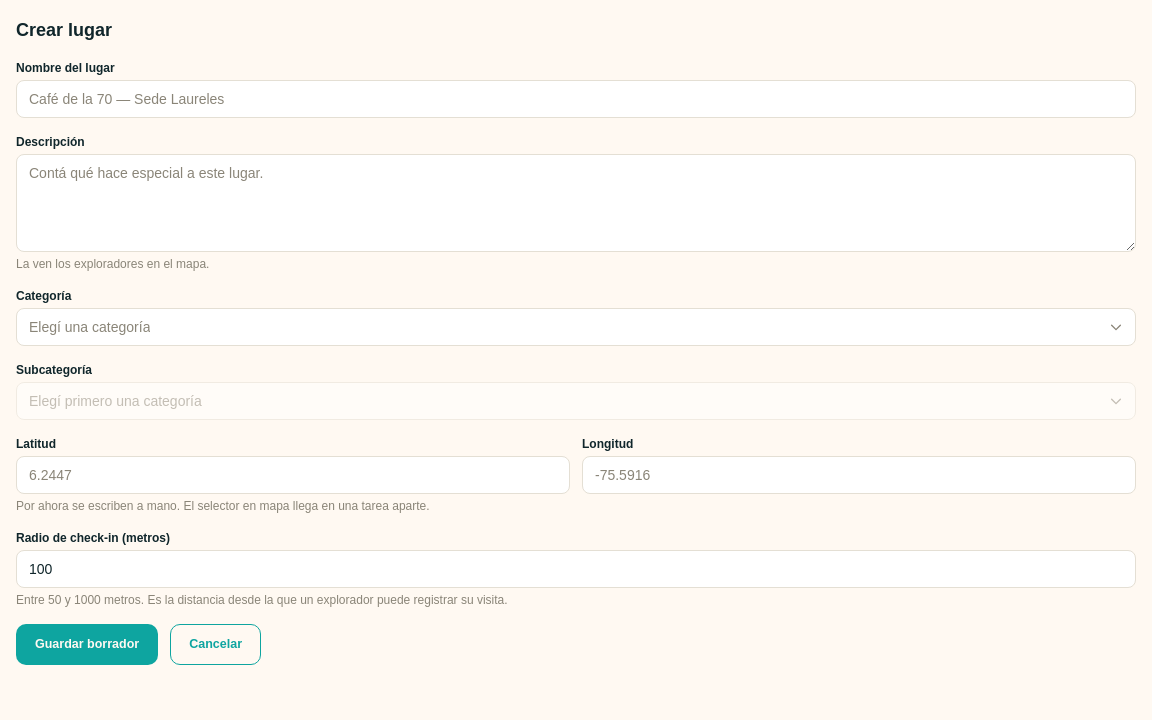
PlaceForm › rechaza una latitud fuera de rango con su mensaje propio
The width and height of the screenshot is (1152, 720).
In the number field labelled "Latitud": (293, 475) [16,456,570,494], type "91"
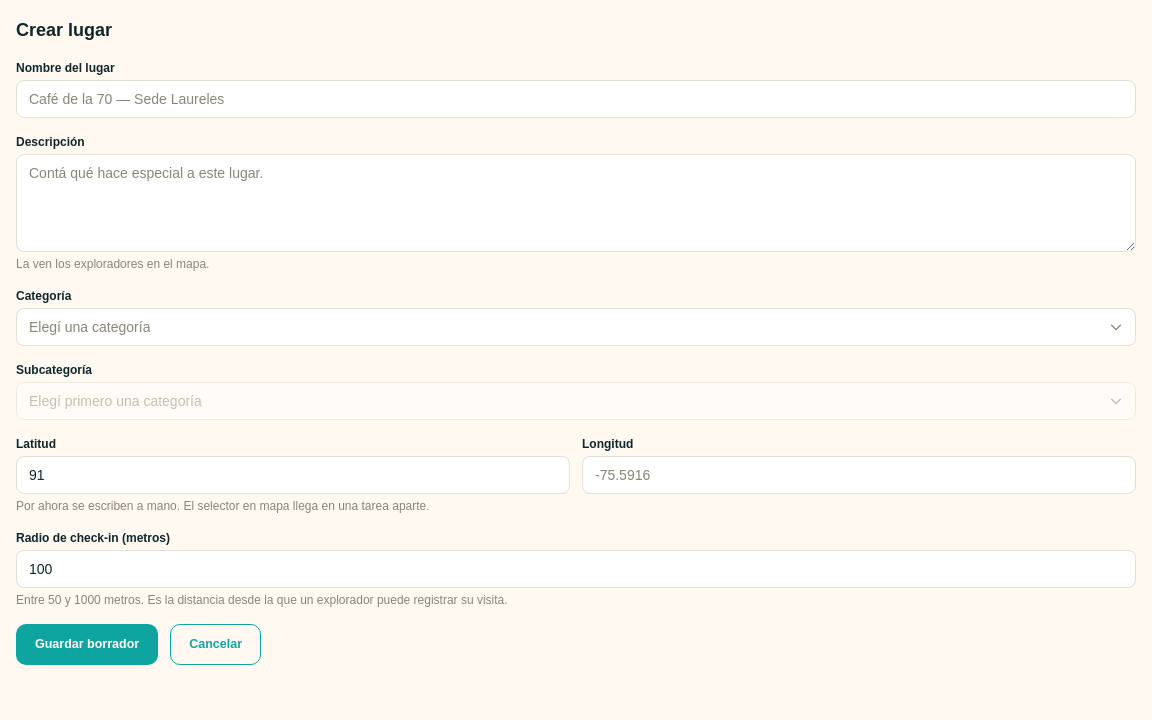
Click the button "Guardar borrador": (87, 644) [16,624,158,665]
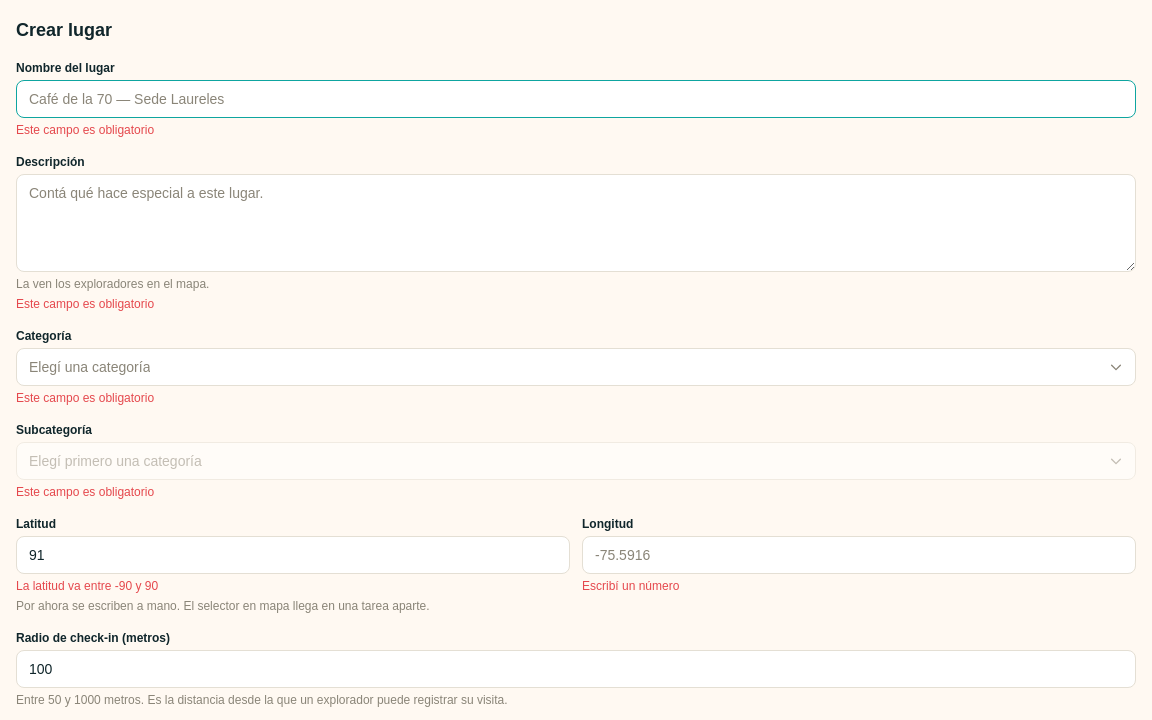
Expected: the text "La latitud va entre -90 y 90" is shown, [16,579,158,593]
